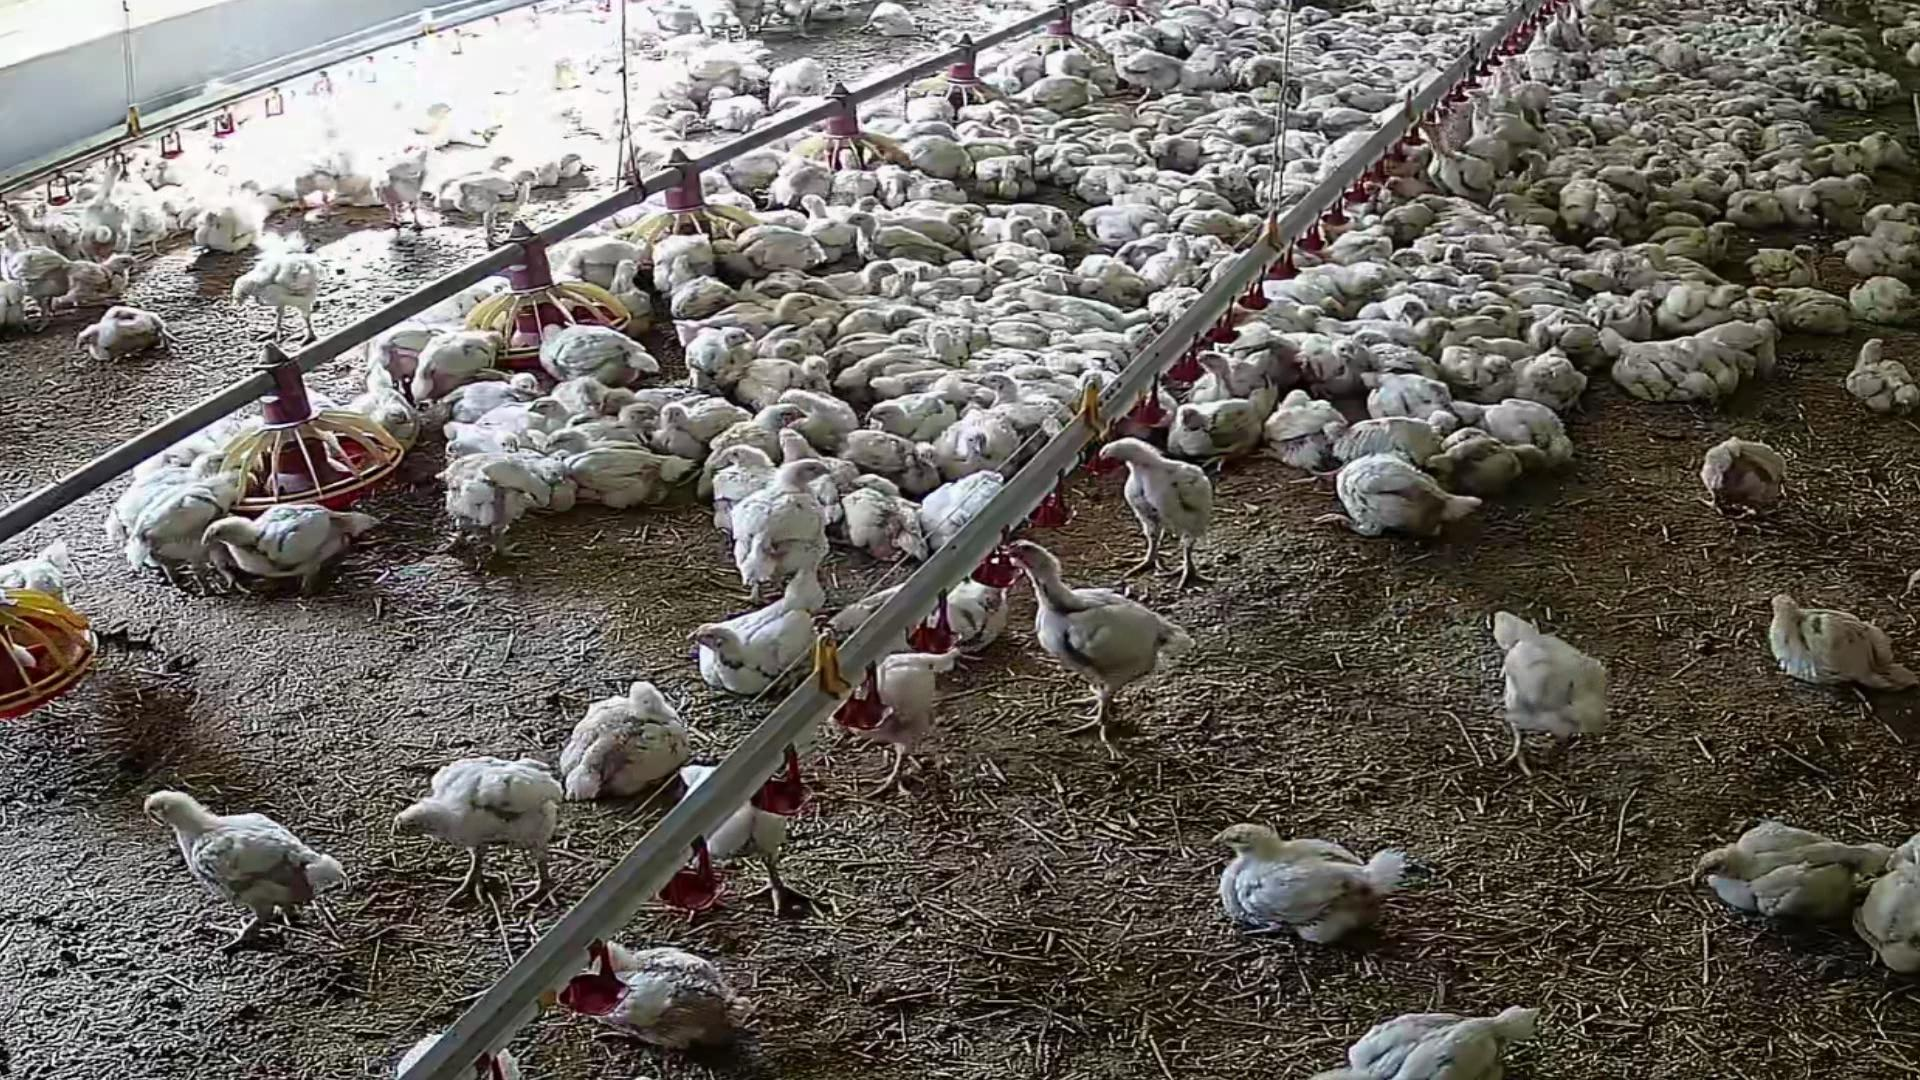poussin: (1001, 545, 1195, 753), (142, 785, 351, 949), (377, 761, 567, 898), (1207, 819, 1408, 947), (680, 738, 812, 923), (553, 926, 750, 1040), (1480, 611, 1611, 775), (819, 640, 948, 799), (1096, 443, 1224, 585), (1693, 818, 1879, 915), (695, 572, 829, 696), (1305, 1009, 1535, 1080), (116, 468, 261, 580), (727, 458, 833, 608), (196, 504, 386, 588), (1774, 589, 1917, 694), (570, 678, 683, 800), (1327, 456, 1469, 538), (905, 556, 1029, 647), (543, 431, 690, 508), (446, 450, 563, 542), (88, 454, 223, 527), (1858, 824, 1920, 978), (662, 289, 819, 348), (233, 251, 324, 351), (0, 510, 84, 616), (1592, 324, 1702, 402), (922, 465, 1014, 556), (1456, 400, 1592, 459), (719, 446, 808, 529), (1695, 435, 1789, 513), (538, 319, 655, 381), (401, 1025, 530, 1080), (348, 360, 427, 448), (1156, 404, 1279, 459), (1193, 352, 1284, 426), (407, 331, 506, 396), (1325, 421, 1445, 473), (679, 293, 811, 340), (1845, 338, 1920, 419), (833, 434, 943, 489), (83, 153, 138, 262), (1263, 397, 1346, 469), (779, 376, 858, 451), (3, 237, 70, 323), (848, 214, 963, 264), (459, 170, 535, 245), (1429, 429, 1535, 483), (70, 305, 182, 355), (861, 475, 916, 571), (789, 434, 853, 516), (1462, 94, 1552, 152), (1411, 121, 1486, 190), (977, 375, 1069, 430), (1640, 241, 1734, 295), (369, 305, 454, 364), (1364, 371, 1456, 423), (737, 352, 831, 404), (7, 199, 87, 258), (435, 154, 516, 214), (1771, 277, 1851, 334), (862, 393, 960, 439), (1701, 318, 1780, 375), (1335, 310, 1460, 345), (1671, 338, 1754, 389), (1505, 348, 1580, 405), (737, 222, 827, 269), (381, 149, 430, 236), (890, 199, 984, 243), (661, 276, 742, 324), (1305, 264, 1398, 306), (1014, 284, 1120, 320), (1109, 38, 1179, 94), (651, 400, 752, 438), (1333, 342, 1429, 381), (1433, 303, 1509, 353), (1349, 335, 1437, 377), (1481, 59, 1536, 127), (198, 199, 262, 255), (1840, 232, 1920, 276), (539, 236, 654, 266), (1659, 284, 1753, 320), (629, 112, 699, 161), (762, 54, 820, 112), (679, 327, 742, 380), (659, 225, 711, 290), (835, 349, 924, 386), (1491, 54, 1557, 104), (287, 154, 338, 219), (1846, 276, 1916, 322), (799, 195, 853, 255), (121, 185, 169, 252), (1257, 266, 1335, 307), (604, 256, 647, 328), (1080, 203, 1159, 243), (1175, 206, 1257, 244), (442, 375, 539, 406), (75, 258, 144, 303), (716, 146, 798, 183), (1005, 204, 1073, 248), (1019, 75, 1098, 112), (1476, 260, 1571, 290), (572, 402, 655, 436), (1279, 338, 1345, 380), (1398, 240, 1470, 278), (898, 161, 968, 200), (1073, 260, 1138, 302), (724, 404, 800, 439), (897, 136, 976, 170), (443, 415, 516, 452), (981, 225, 1052, 262), (786, 140, 832, 196), (1729, 187, 1787, 232), (707, 82, 757, 133), (1863, 189, 1920, 233), (973, 150, 1036, 190), (818, 261, 899, 291), (1441, 347, 1503, 386), (1154, 119, 1212, 161), (1425, 240, 1502, 272), (1244, 306, 1331, 334), (1522, 26, 1569, 76), (604, 380, 682, 410), (1246, 164, 1315, 198), (1560, 255, 1640, 284), (1108, 181, 1178, 214), (1652, 225, 1739, 251), (520, 145, 583, 179), (862, 367, 953, 390), (1143, 228, 1176, 293), (1220, 322, 1287, 353), (1520, 142, 1569, 186), (874, 153, 918, 202), (1001, 41, 1040, 92), (1811, 179, 1882, 207), (1218, 108, 1283, 138), (1774, 193, 1817, 237), (858, 1, 926, 30), (1535, 127, 1592, 161), (1822, 78, 1871, 117), (1370, 294, 1443, 320), (1072, 167, 1130, 200), (844, 145, 877, 203), (939, 371, 994, 405), (825, 335, 927, 353), (1175, 178, 1232, 211), (525, 397, 579, 431), (1759, 92, 1837, 116), (1741, 248, 1818, 272), (1569, 158, 1598, 222), (971, 214, 1030, 244), (1407, 193, 1478, 218), (1378, 198, 1433, 229), (1184, 46, 1224, 88), (1582, 141, 1655, 164), (1642, 195, 1724, 215), (989, 247, 1071, 266), (702, 1, 741, 42), (1749, 141, 1808, 167), (898, 94, 960, 119), (1578, 233, 1643, 257), (737, 204, 810, 225), (835, 309, 931, 324), (1815, 136, 1865, 166), (1327, 129, 1381, 157), (1636, 208, 1712, 228), (965, 138, 1040, 158), (1501, 193, 1553, 220), (1324, 236, 1379, 262), (1271, 131, 1327, 157), (1756, 166, 1811, 193), (1341, 76, 1398, 102), (1051, 45, 1100, 74), (1102, 30, 1149, 61), (1457, 236, 1519, 258), (696, 191, 766, 211), (1056, 111, 1130, 129), (1158, 9, 1195, 46), (740, 0, 771, 42), (1651, 113, 1701, 140), (1600, 170, 1683, 186), (1621, 95, 1667, 123), (1700, 98, 1764, 117), (750, 272, 819, 290), (1640, 88, 1691, 113), (1089, 125, 1153, 145), (793, 281, 852, 302), (1514, 244, 1598, 258), (989, 112, 1036, 137), (1869, 129, 1909, 158), (1357, 178, 1394, 210), (1052, 328, 1135, 342), (0, 276, 18, 335), (1076, 148, 1142, 164), (1316, 105, 1374, 123), (1131, 20, 1164, 49), (760, 0, 789, 33), (1724, 161, 1758, 189), (1234, 57, 1276, 79), (935, 319, 959, 359), (1390, 179, 1428, 203), (745, 349, 814, 363), (957, 98, 1010, 113), (1303, 18, 1353, 34), (1655, 141, 1708, 156), (1725, 131, 1756, 153), (969, 323, 1056, 331), (1733, 120, 1770, 138), (793, 0, 810, 40), (1764, 123, 1809, 136), (1178, 8, 1218, 21), (1133, 98, 1171, 109), (1237, 87, 1262, 102), (1746, 285, 1775, 297), (1215, 38, 1233, 54), (1734, 314, 1771, 320)
